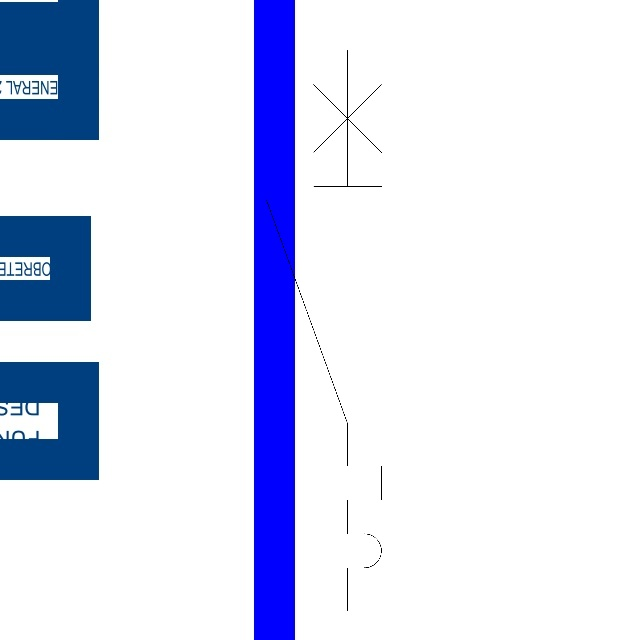interruptor_termomagnetico: (252, 36, 396, 625)
